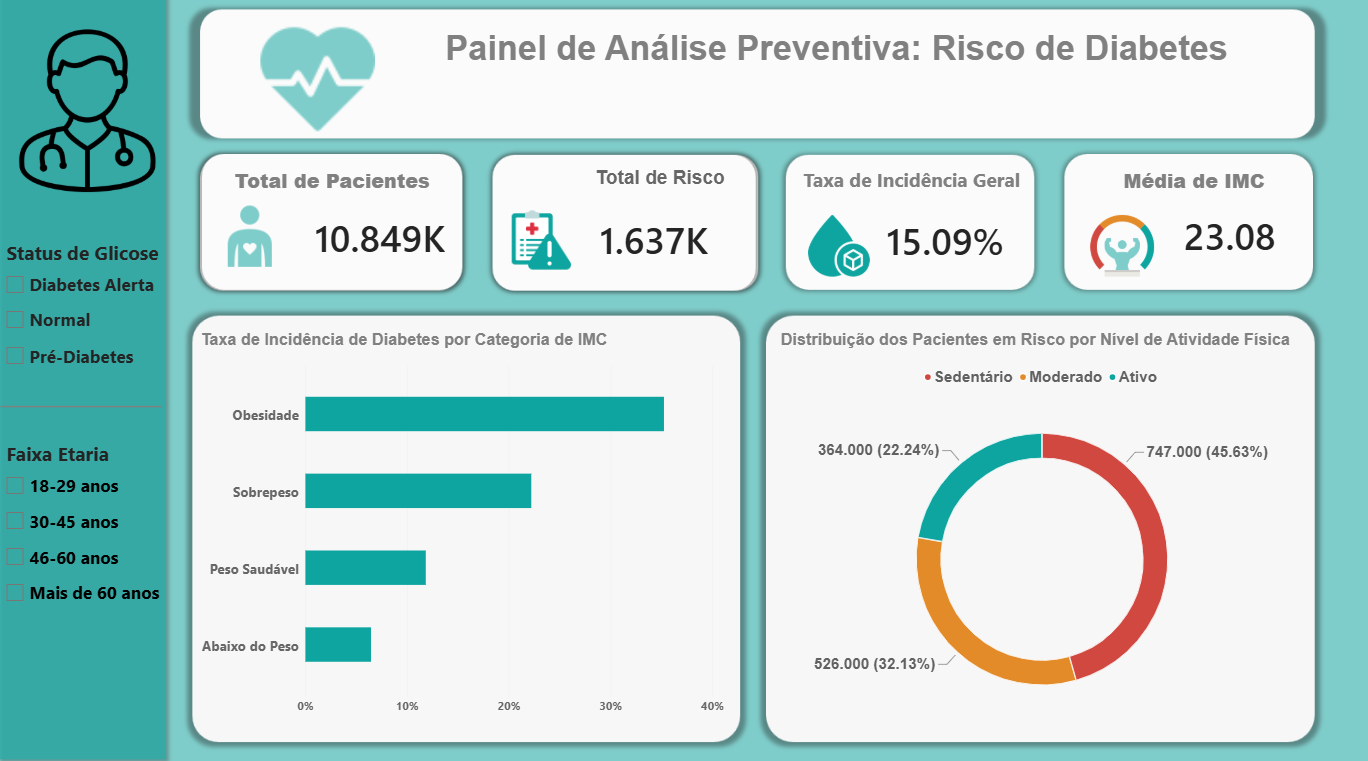

The page's visual inventory and layout, read from the dashboard file:
{"tool":"powerbi","page":{"name":"Dashboard","canvas":[1920,1080],"ordinal":0},"visuals":[{"type":"cardVisual","title":"Total de Pacientes","fields":{"Data":["Metrics.Total Pacientes"]},"box":[427.6,290.8,228.8,96.2],"z":0},{"type":"cardVisual","title":"Média de IMC","fields":{"Data":["Metrics.Taxa Risco (%)"]},"box":[1223,303.6,215.9,117.6],"z":1000},{"type":"textbox","box":[292.9,241.6,363.5,59.9],"z":2000},{"type":"textbox","box":[1101.1,241.6,365.6,62],"z":3000},{"type":"textbox","box":[1543.7,241.6,267.3,59.9],"z":4000},{"type":"textbox","box":[0,502,150,300],"z":5000},{"type":"textbox","box":[500.7,39.6,1340,113.5],"z":6000},{"type":"barChart","fields":{"Category":["Fato_Pacientes.Categoria_IMC"],"Y":["Metrics.Taxa Diabetes"]},"box":[291.8,484.5,729.5,527.7],"z":7000},{"type":"donutChart","fields":{"Category":["Dim_EstiloVida.Physical_Activity"],"Y":["Sum(Fato_Pacientes.Diagnostico_Risco_Alto)"]},"box":[1102,470.9,728,554.4],"z":8000},{"type":"slicer","fields":{"Values":["Fato_Pacientes.Faixa_Etaria"]},"box":[12.6,625,225.1,246.8],"z":9000},{"type":"slicer","fields":{"Values":["Fato_Pacientes.Status_Glicose"]},"box":[12.3,343.7,252.2,201.7],"z":10000},{"type":"cardVisual","fields":{"Data":["Metrics.Media IMC"]},"box":[1623,277.2,207.1,118.6],"z":11000},{"type":"image","box":[290.8,297.2,136.8,85.5],"z":12000},{"type":"image","box":[290.8,40.6,326,160.3],"z":13000},{"type":"image","box":[13.4,50.1,238.8,227.1],"z":14000},{"type":"image","box":[1498.8,303.6,158.2,98.4],"z":15000},{"type":"image","box":[1101.1,303.6,162.5,98.4],"z":16000},{"type":"shape","box":[12.6,502.5,225.1,149.5],"z":17000},{"type":"cardVisual","fields":{"Data":["Metrics.Total de Risco"]},"box":[803.9,290.8,239.5,104.8],"z":18000},{"type":"textbox","box":[803.9,241.6,256.6,62],"z":19000},{"type":"image","box":[694.9,301.5,145.4,85.5],"z":20000}]}

Visuals, with their boxes in screenshot pixels (x1, y1, x2, y2), scaled from the page's 1920x1080 canvas onto the 1368x761 screenshot:
"Total de Pacientes" cardVisual: 305/205/468/273
"Média de IMC" cardVisual: 871/214/1025/297
textbox: 209/170/468/212
textbox: 785/170/1045/214
textbox: 1100/170/1290/212
textbox: 0/354/107/565
textbox: 357/28/1311/108
barChart - Fato_Pacientes.Categoria_IMC x Metrics.Taxa Diabetes: 208/341/728/713
donutChart - Dim_EstiloVida.Physical_Activity x Sum(Fato_Pacientes.Diagnostico_Risco_Alto): 785/332/1304/722
slicer - Fato_Pacientes.Faixa_Etaria: 9/440/169/614
slicer - Fato_Pacientes.Status_Glicose: 9/242/188/384
cardVisual - Metrics.Media IMC: 1156/195/1304/279
image: 207/209/305/270
image: 207/29/439/142
image: 10/35/180/195
image: 1068/214/1181/283
image: 785/214/900/283
shape: 9/354/169/459
cardVisual - Metrics.Total de Risco: 573/205/743/279
textbox: 573/170/756/214
image: 495/212/599/273
